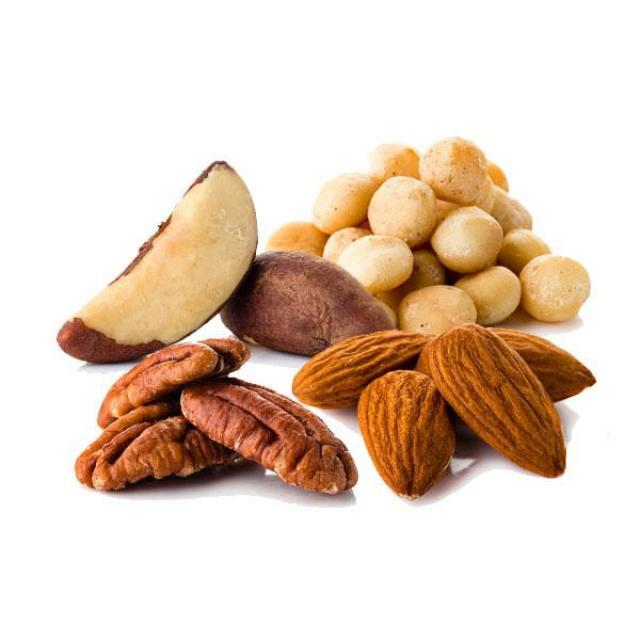Frutta secca: (34, 143, 408, 379), (291, 118, 612, 350), (72, 353, 374, 523), (317, 333, 603, 499)
